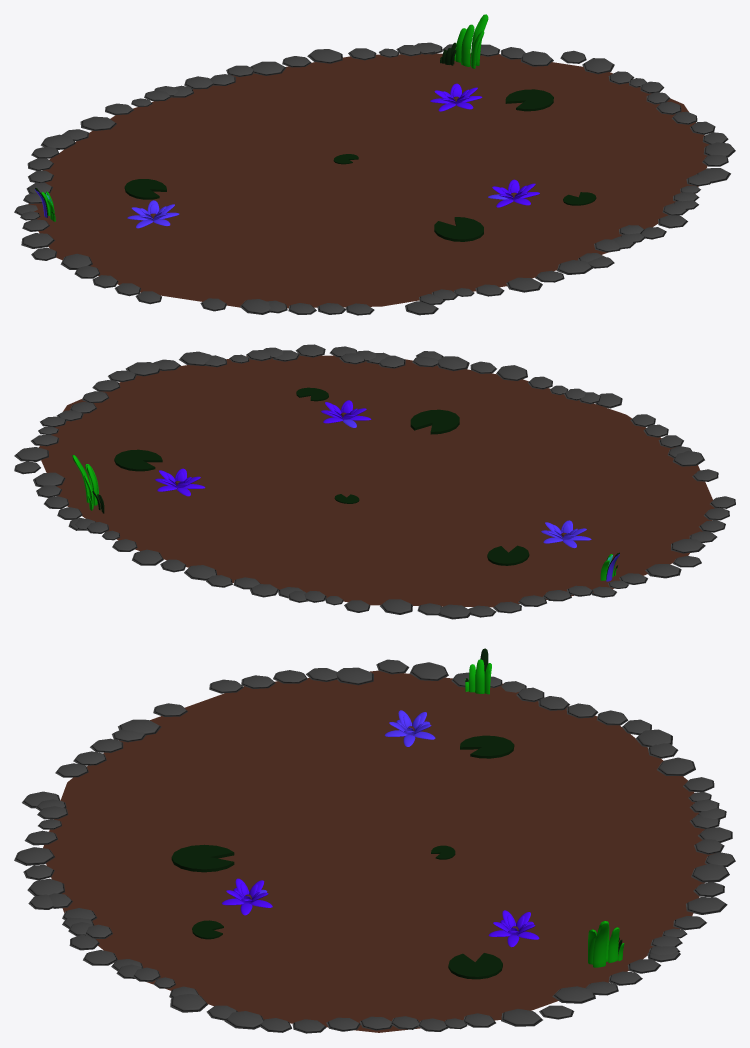
File: golettt.fbx
3 renders of one model, top to bottom at view 1: azimuth 30°, elevation 25°; view 2: azimuth 150°, elevation 25°; view 3: azimuth 270°, elevation 25°, orthographic. The views are drawn at different scales.
Visible parts, largest first — view 1: 78; view 2: 78; view 3: 78.
Part boxes in pixels (x1,y1,x2,y2): 78: (28, 14, 709, 308); 78: (39, 355, 714, 607); 78: (43, 648, 715, 1032).
Size of the model in its own units: 206 by 14.86 by 168.
